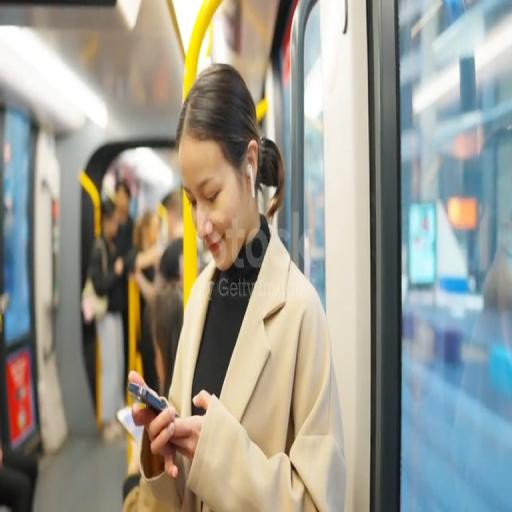earphone: (244, 158, 260, 200)
